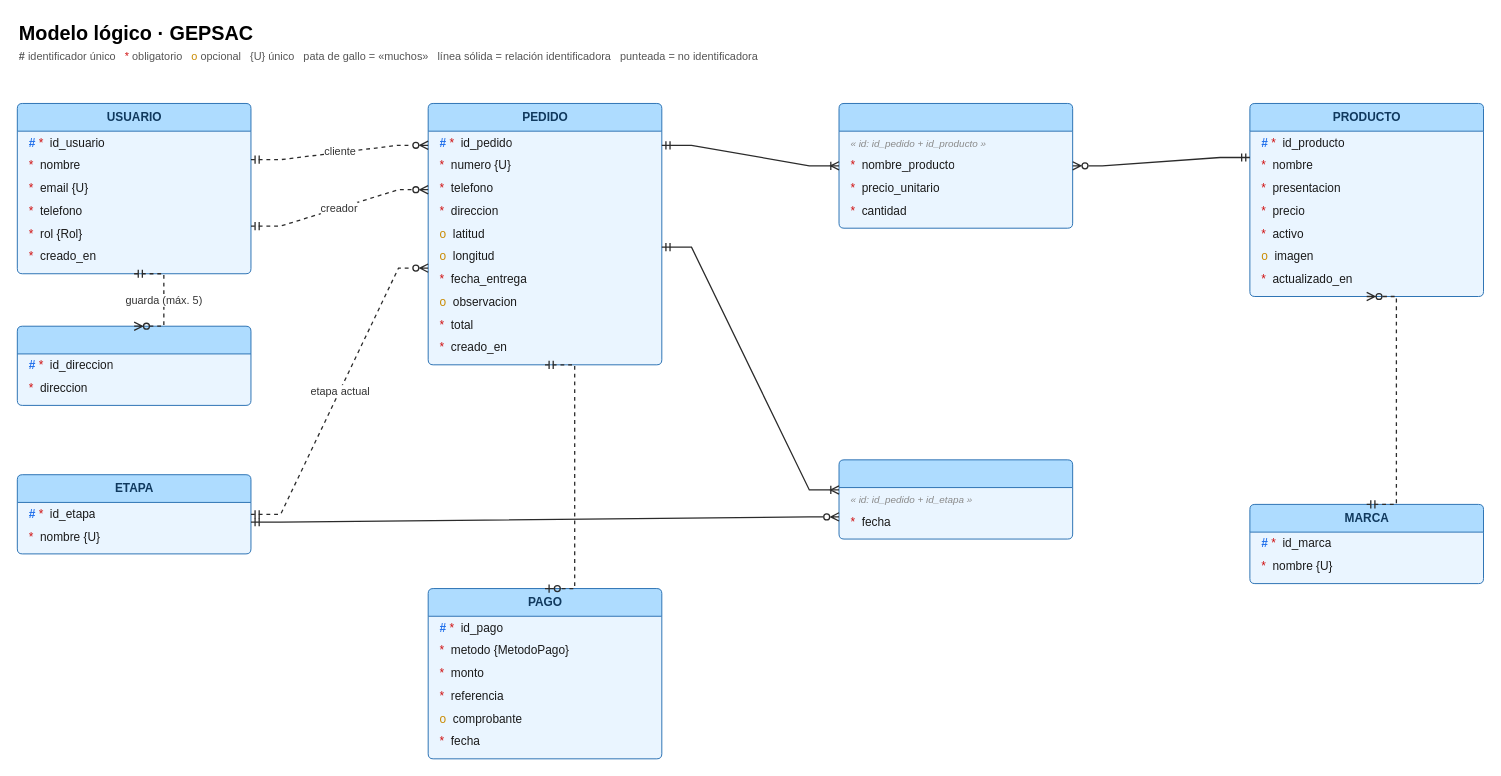
Image size: 1501x776. Some labels were removed from this diagram. The box of each missing label's shape, as (x1, y1, x2, y2) in pixels:
DETALLE_PEDIDO: (838, 102, 1073, 228)
DIRECCION_GUARDADA: (16, 325, 251, 405)
HISTORIAL_ETAPA: (838, 459, 1073, 539)
